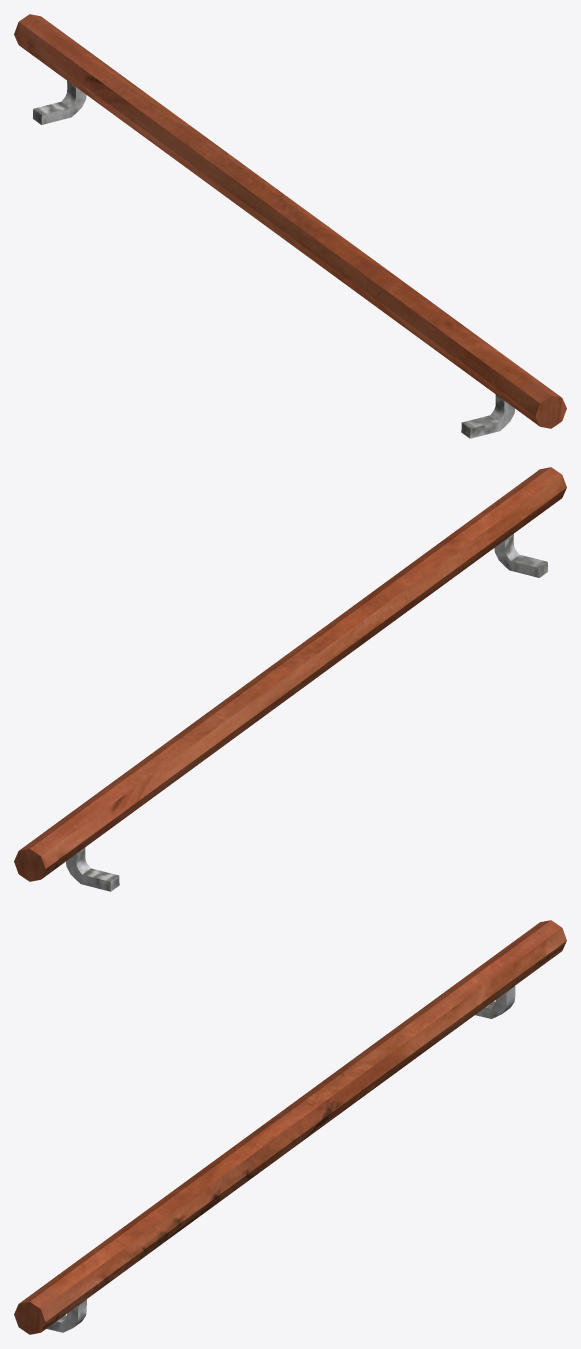
The model's file is window_rail.fbx.
3 renders of one model, top to bottom at view 1: azimuth 30°, elevation 25°; view 2: azimuth 150°, elevation 25°; view 3: azimuth 330°, elevation 25°, orthographic.
Visible parts, largest first — view 1: HandRail_Window; view 2: HandRail_Window; view 3: HandRail_Window.
Part boxes in pixels (<box>): HandRail_Window: <box>14,14,566,438</box>; HandRail_Window: <box>14,467,566,891</box>; HandRail_Window: <box>14,920,566,1334</box>.
Size of the model in its own units: 12.15 by 13.61 by 200.
Materials: 1 (1 with a texture image).
